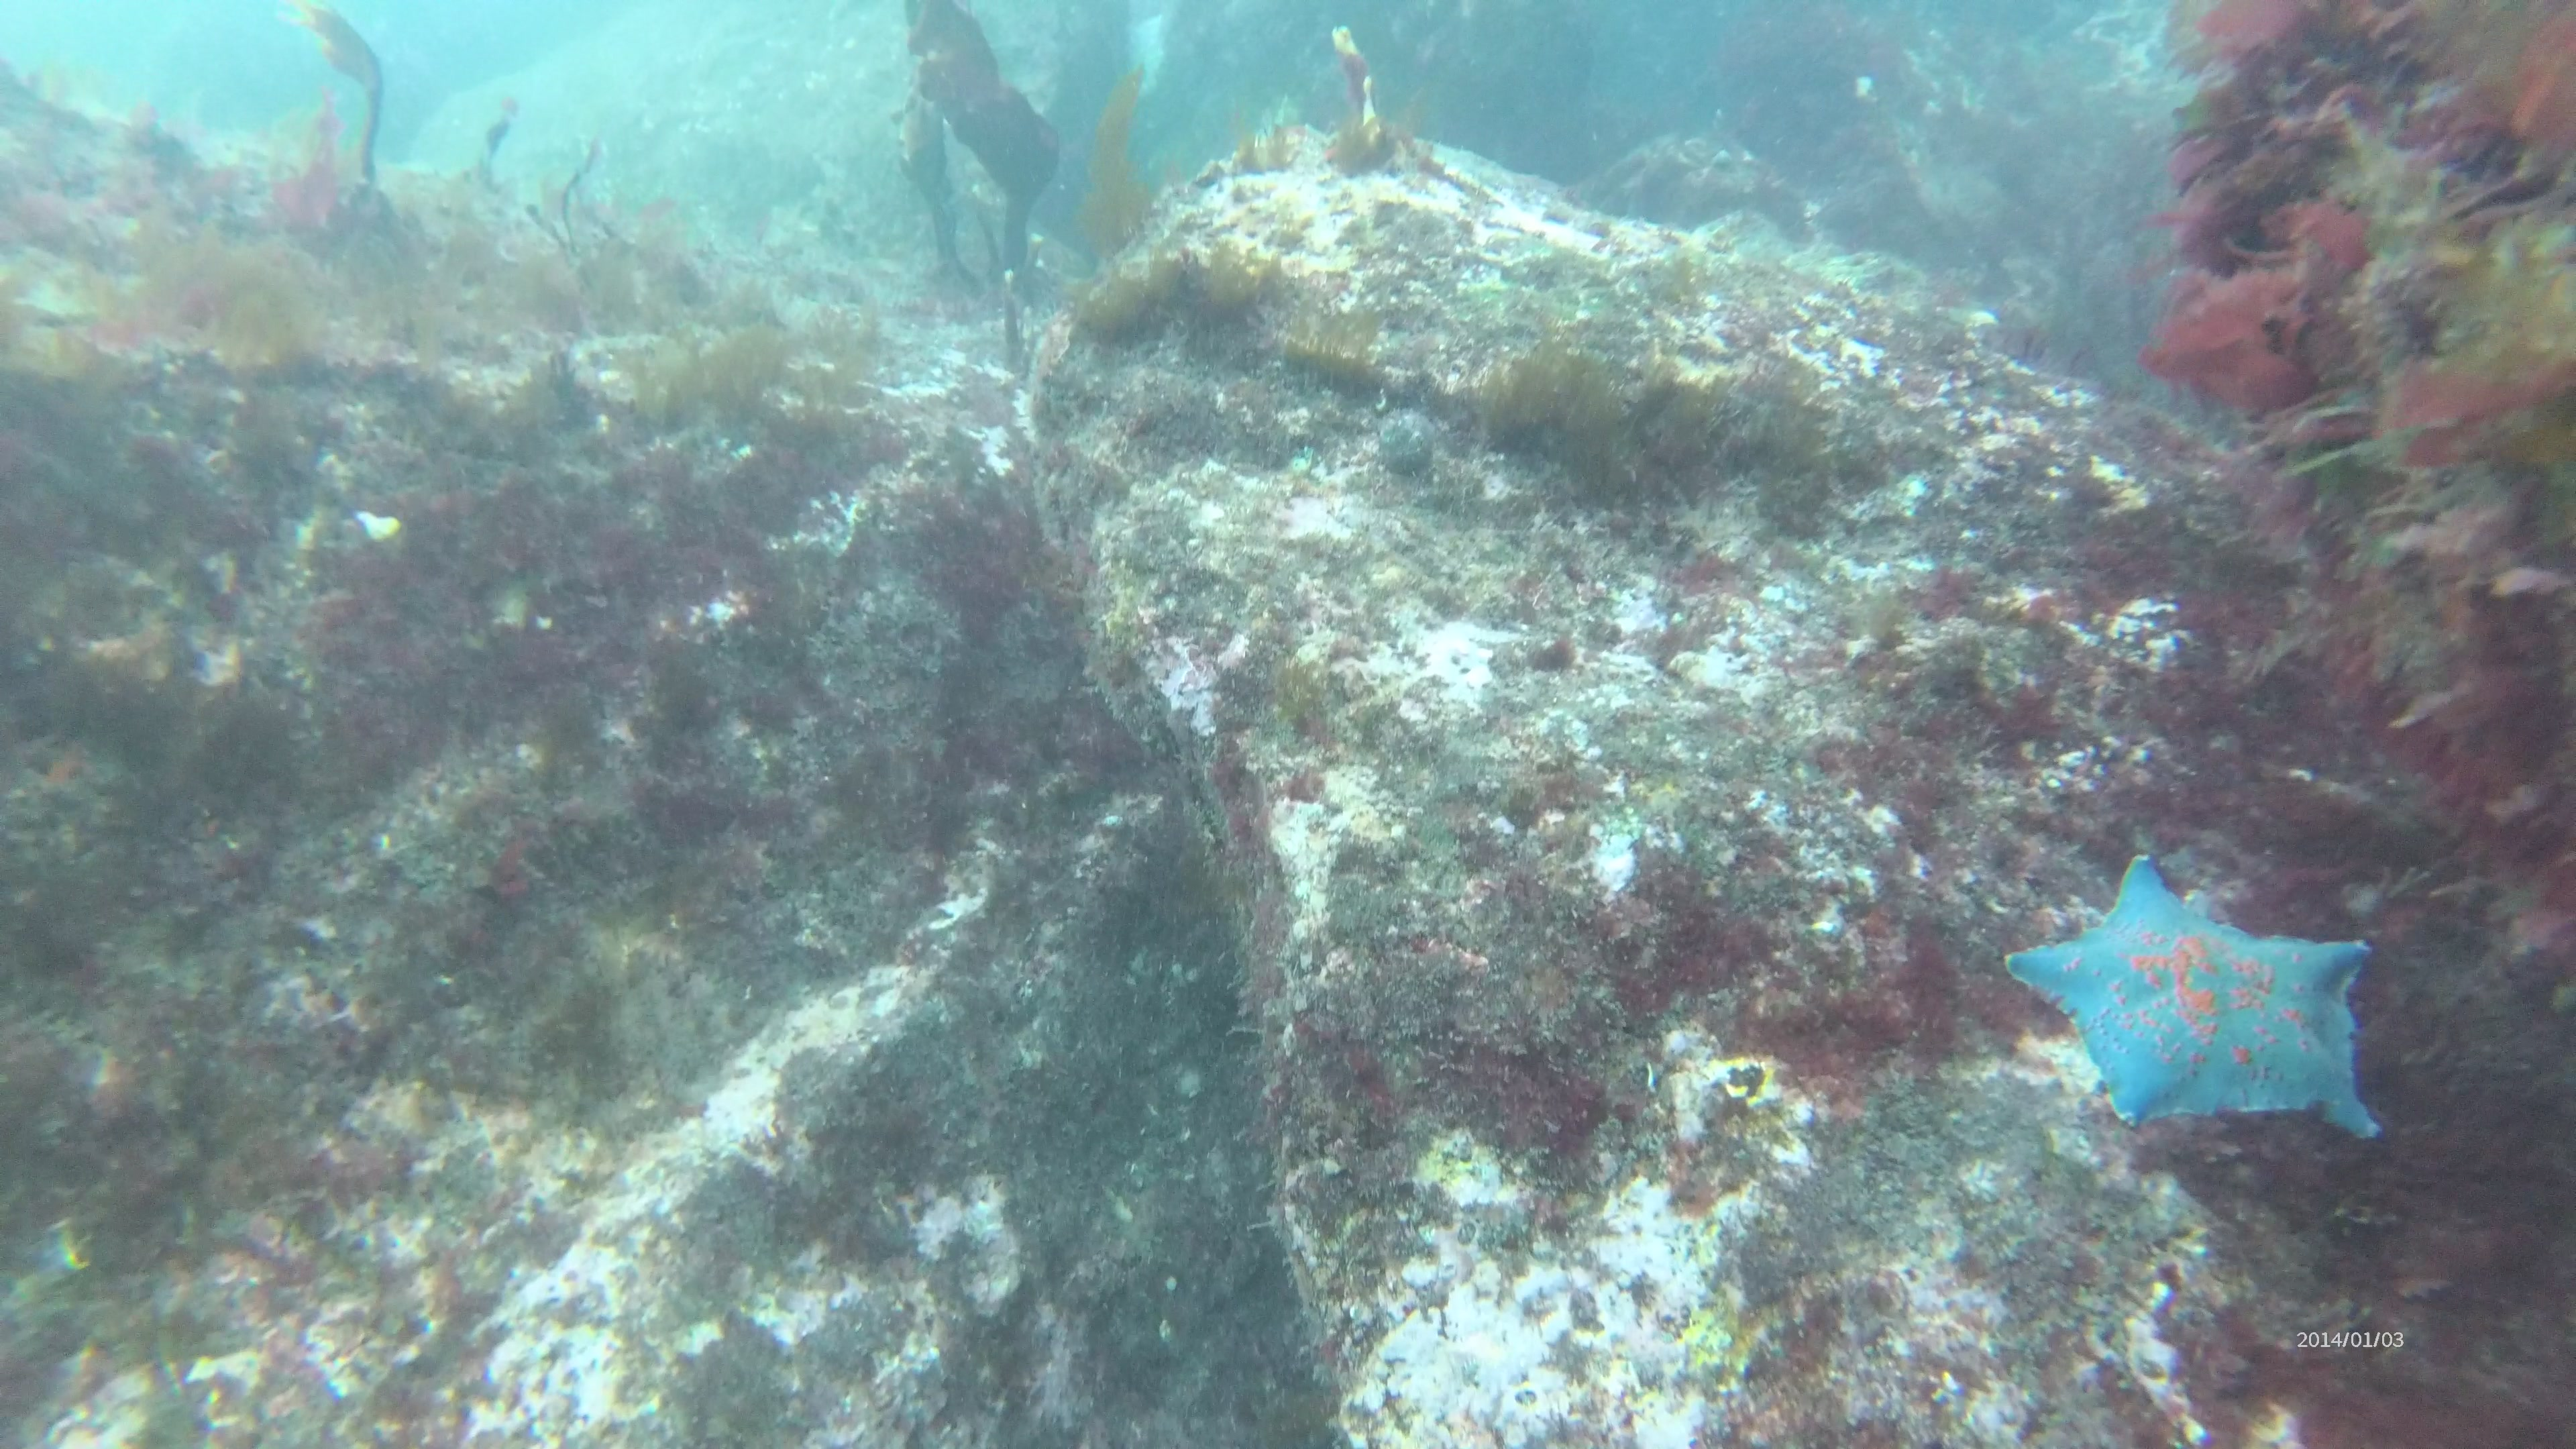starfish: (2003, 847, 2380, 1141)
